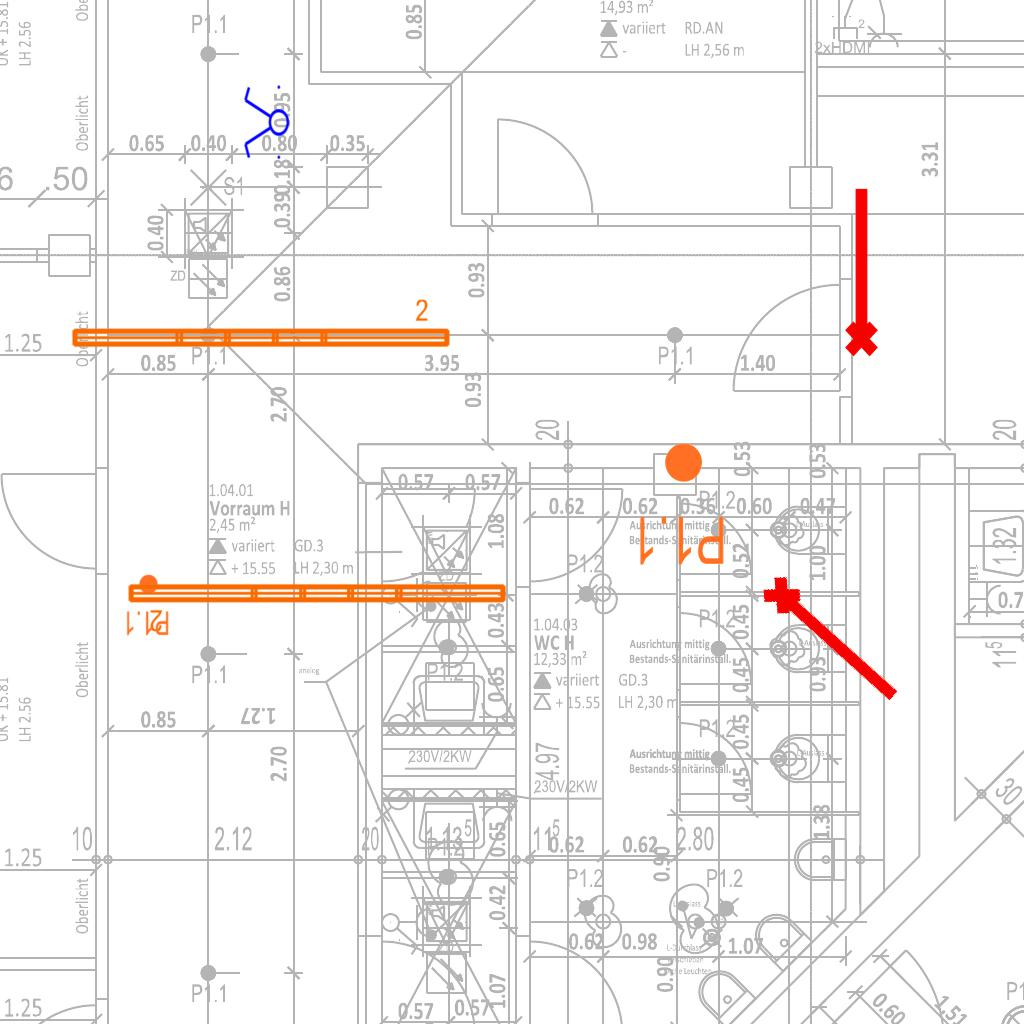ASR_Ansaugoeffnung: (753, 563, 915, 715), (836, 183, 882, 359)
Ambulanz_Pendelleuchte_LED: (67, 297, 454, 353), (124, 578, 511, 634)
Downlight_LED_Einbauleuchten_Flur: (634, 440, 727, 568), (124, 573, 170, 637)
Serienschalter: (242, 81, 290, 165)
